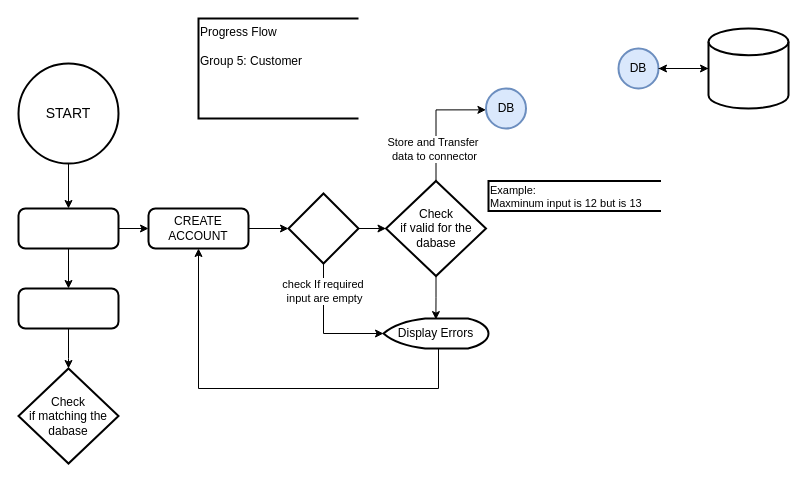
The diagram is 806 pixels wide and 481 high, and some of its shapes have lost their labels. The shapes that lost their labels are listed below. From the top down, each one's centre as x and y in pixels, then its label:
At (748,68): "DATABASE".
At (68,228): "Website / HTML".
At (323,228): "Check Required".
At (68,308): "LOGIN".
